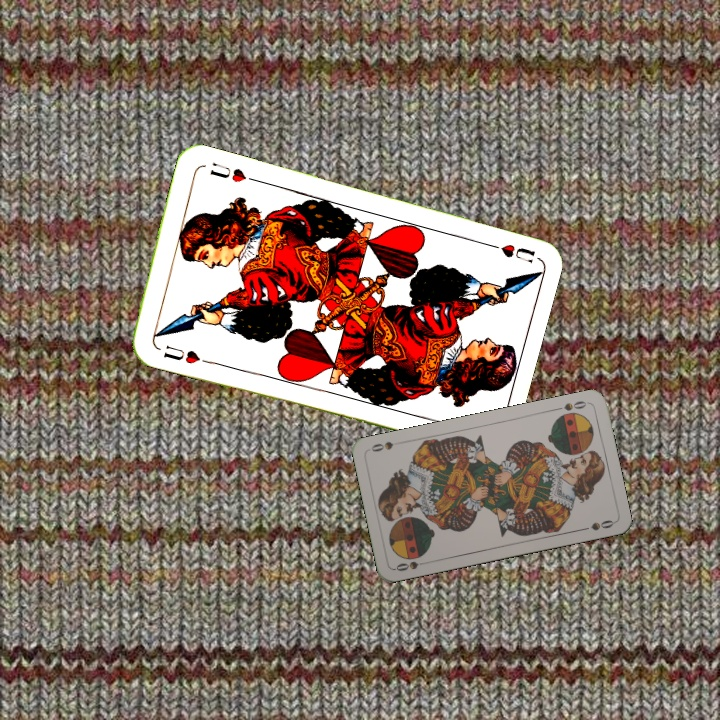HU: (480, 238, 537, 266), (159, 341, 203, 367)
SO: (391, 557, 432, 574), (550, 397, 591, 413)
